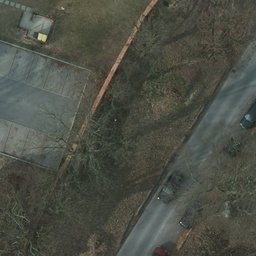car: (159, 168, 183, 204), (179, 201, 206, 230), (238, 97, 255, 131)
